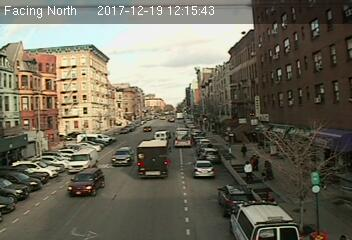car: (67, 169, 106, 198), (219, 183, 254, 213), (191, 159, 217, 180), (110, 145, 134, 166), (199, 147, 222, 165)
pedestrian: (242, 160, 255, 183), (263, 159, 274, 181)
police: (228, 198, 303, 240)
truck: (66, 147, 97, 173), (173, 128, 191, 146)
ups: (136, 139, 170, 178)
